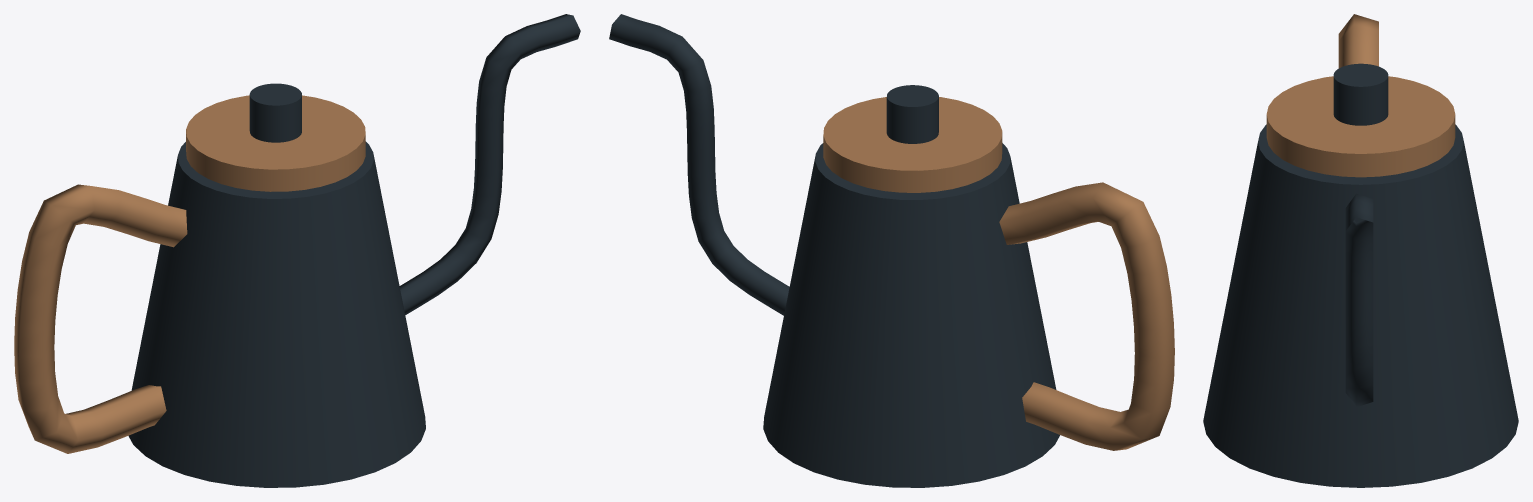
The model's file is officeKettle.glb.
3 renders of one model, left to right at view 1: azimuth 30°, elevation 25°; view 2: azimuth 150°, elevation 25°; view 3: azimuth 270°, elevation 25°, orthographic. The views are drawn at different scales.
Size of the model in its own units: 0.3951 by 0.2284 by 0.184.
